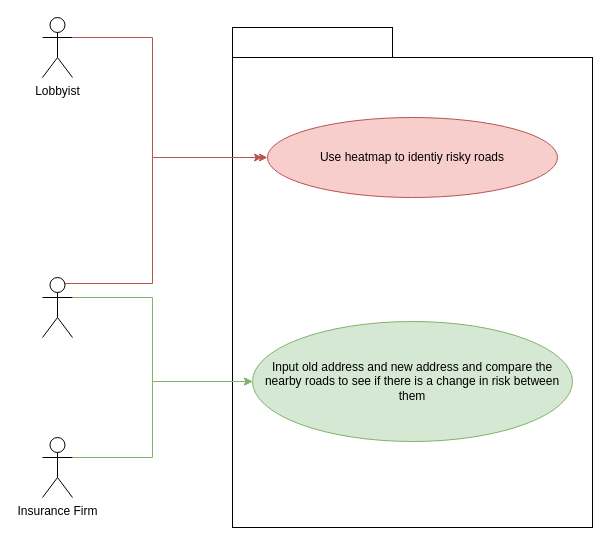
Some shapes in this 610 by 545 pixel diagram are drawn without their labels. The centre of each missing label's shape, as x and y in pixels:
"Road User" belongs at [57,307].
"RTC Project" belongs at [312,42].
